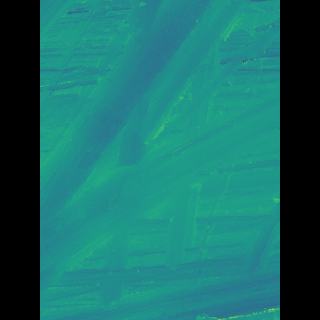Loch: (69, 0, 223, 292), (142, 16, 250, 161)
